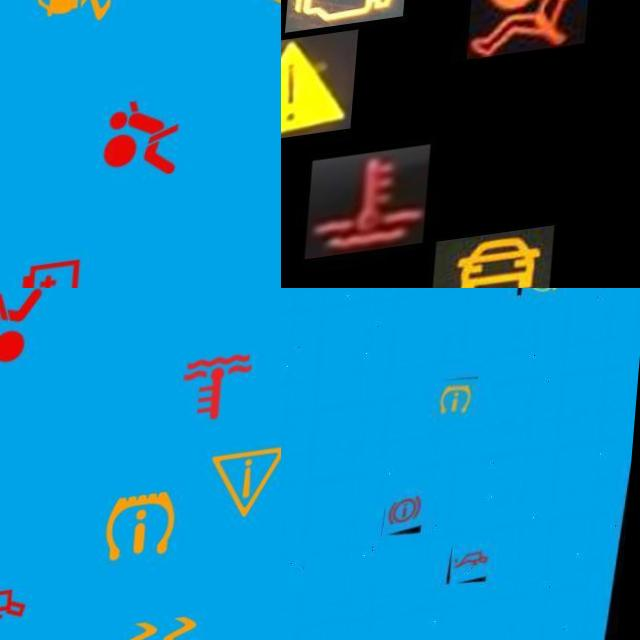Central Warning lamp: (281, 40, 362, 152)
Engine cooling system: (313, 158, 437, 269)
High Engine Coolant Temperature: (169, 346, 268, 449)
